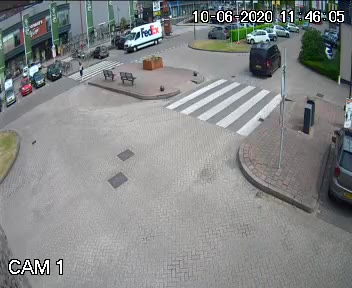car: (245, 39, 281, 82), (120, 23, 168, 48)
